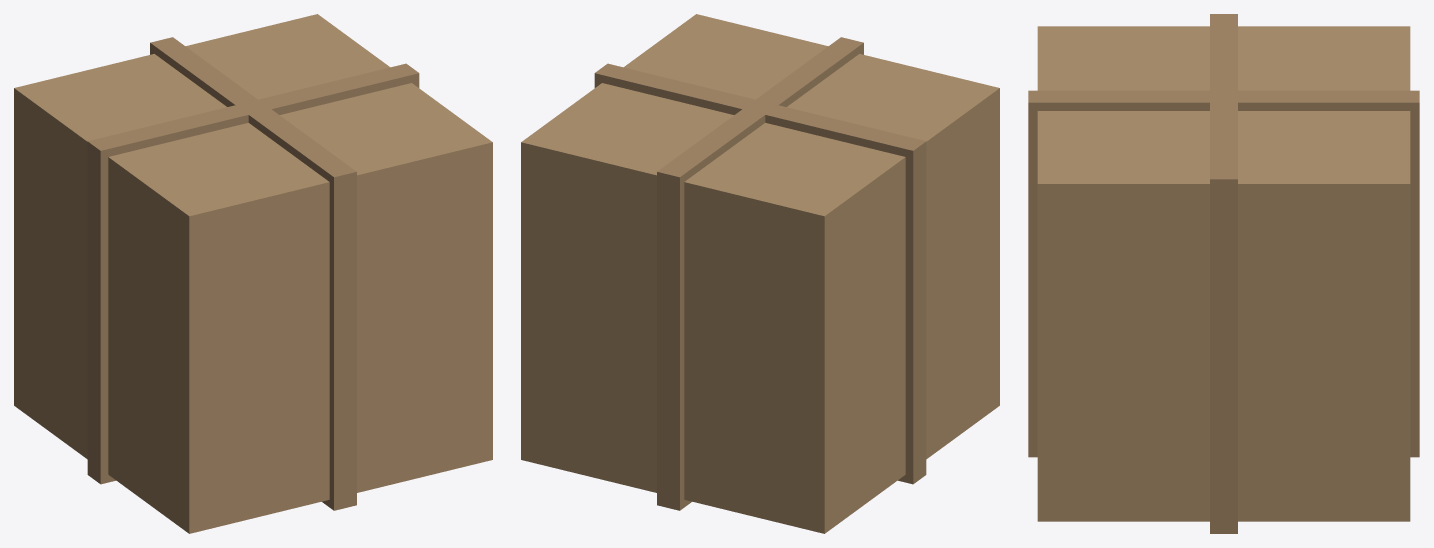
File: sm_crate.glb
The picture shows the model from 3 angles, left to right: view 1: azimuth 30°, elevation 25°; view 2: azimuth 150°, elevation 25°; view 3: azimuth 270°, elevation 25°; orthographic projection. The views are drawn at different scales.
Parts seen in each view (by area): view 1: sm_crate; view 2: sm_crate; view 3: sm_crate.
Boxes of the visible parts, left/top/right/bottom form: sm_crate: left=14, top=14, right=492, bottom=533; sm_crate: left=521, top=14, right=999, bottom=533; sm_crate: left=1028, top=14, right=1419, bottom=533.
Size of the model in its own units: 0.84 by 0.84 by 0.84.
